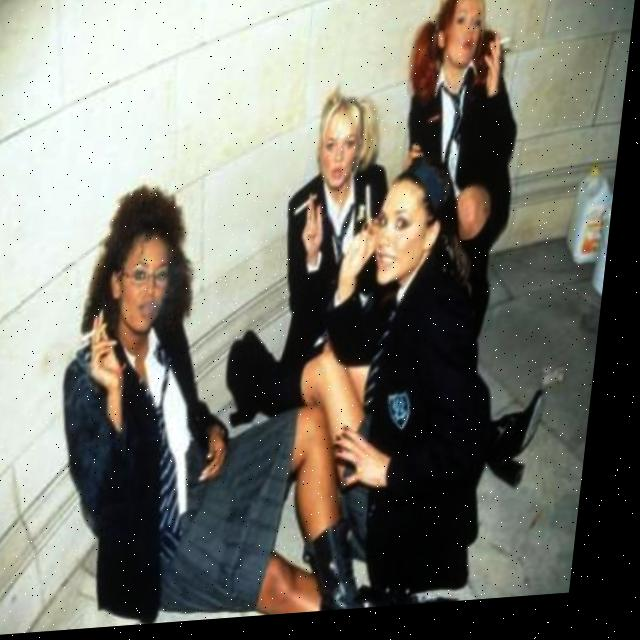cigarette: (88, 322, 117, 345), (298, 199, 324, 224), (367, 190, 380, 234), (492, 42, 517, 55)
